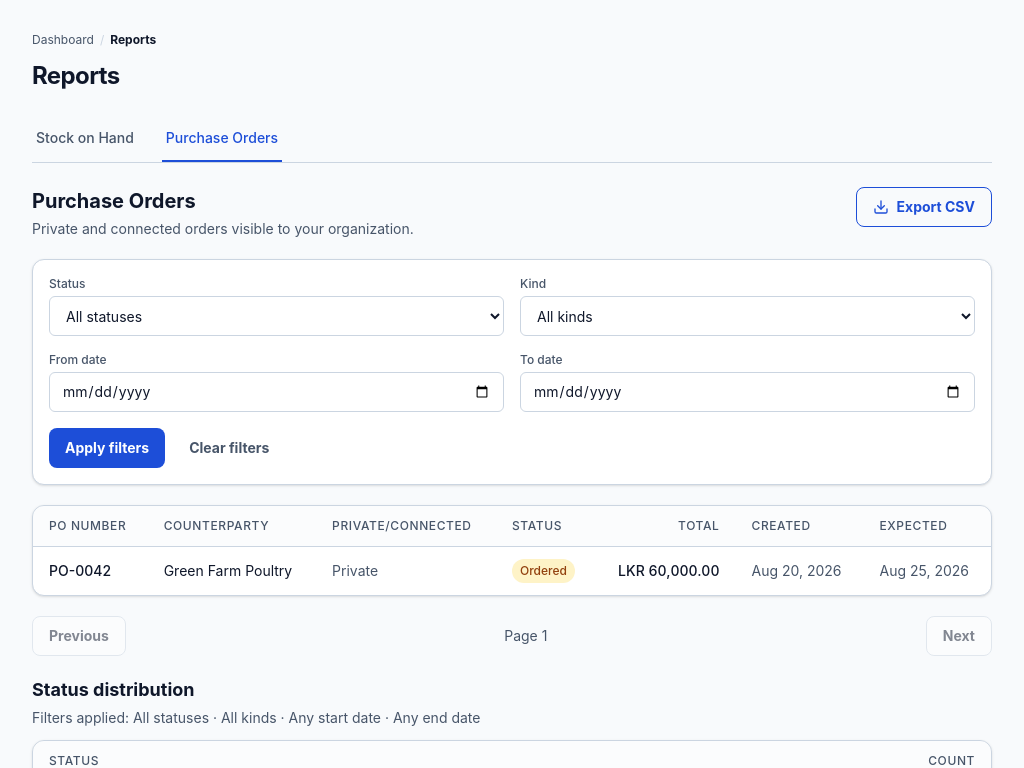
Scenario: PurchaseOrderReport › rejects an inverted date range without issuing another report read
This screenshot has width=1024, height=768.
Type "2026-08-22" into the date field labelled "From date" at (276, 392), box left=49, top=372, right=504, bottom=412
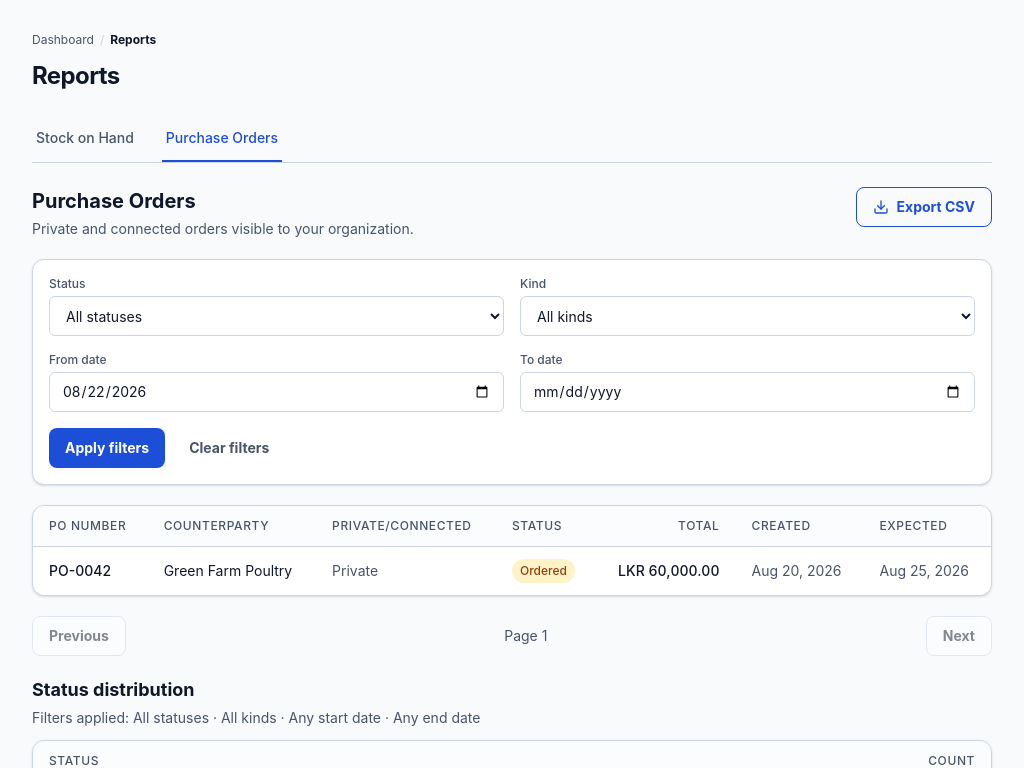
Type "2026-08-20" into the date field labelled "To date" at (748, 392), box left=520, top=372, right=975, bottom=412
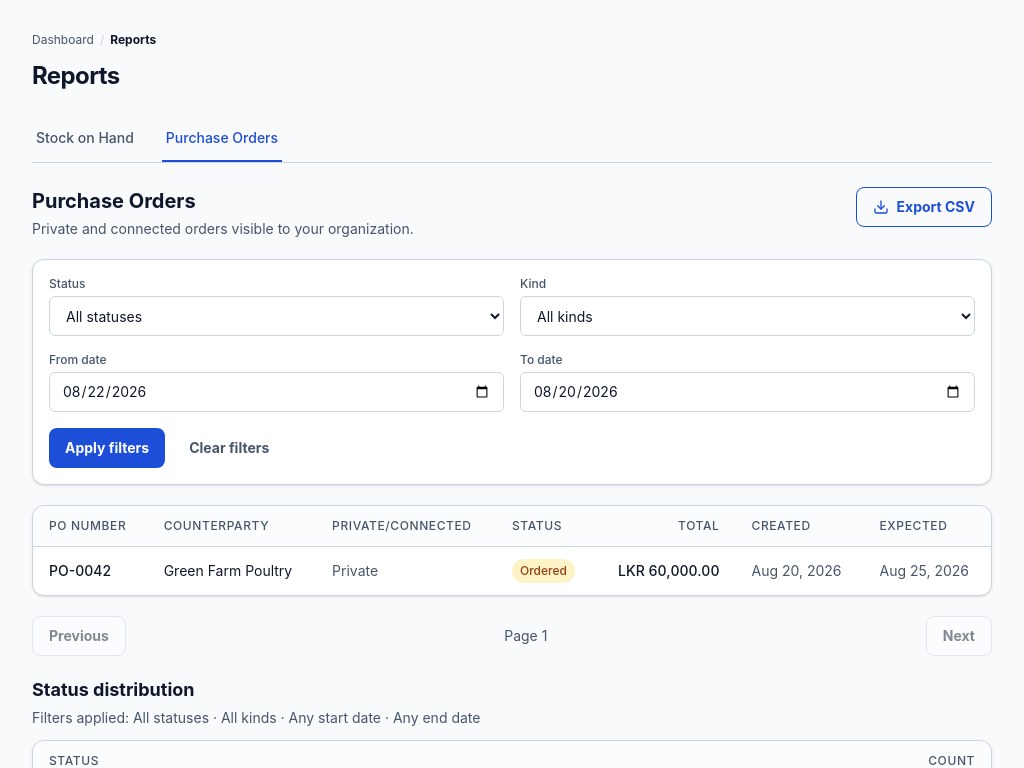
Click the button "Apply filters" at (107, 448), box left=49, top=428, right=165, bottom=468
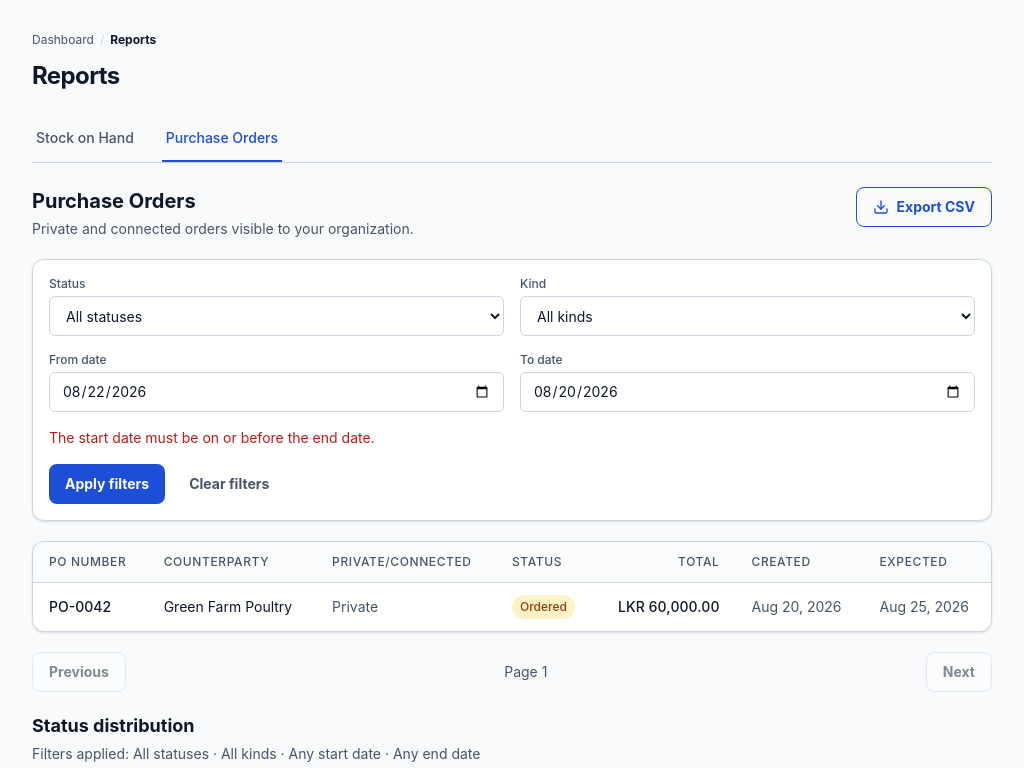
Now the message reads "The start date must be on or before the end date.", box left=49, top=429, right=375, bottom=446
